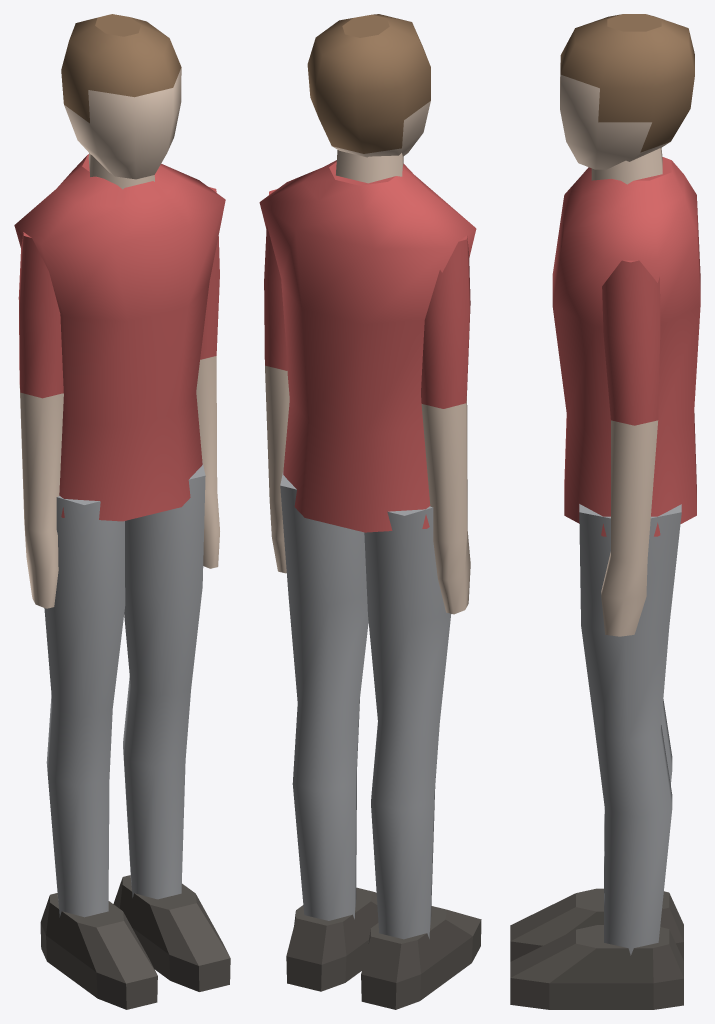
Rendered from pedestrian_3.fbx.
The picture shows the model from 3 angles, left to right: view 1: azimuth 30°, elevation 25°; view 2: azimuth 150°, elevation 25°; view 3: azimuth 270°, elevation 25°; orthographic projection. The views are drawn at different scales.
Parts seen in each view (by area): view 1: pedestrian_3; view 2: pedestrian_3; view 3: pedestrian_3.
Boxes of the visible parts, x1,y1,x2,y2 form: pedestrian_3: (14,14,230,1009); pedestrian_3: (259,14,481,1009); pedestrian_3: (510,14,700,1009).
Bounding box in the file's own units: 0.3549 × 1.58 × 0.2849.
